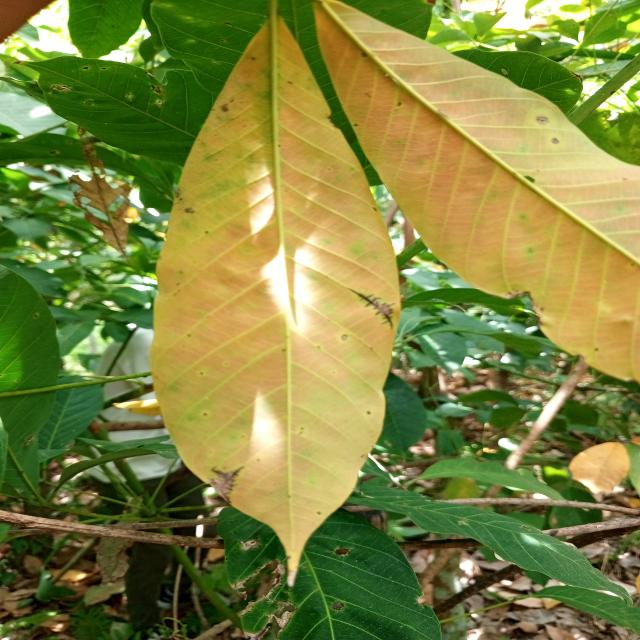Colletotrichum: (537, 116, 549, 125)
Corynespora: (349, 289, 396, 330), (208, 466, 244, 504)
Leaf-Blight: (245, 625, 270, 640), (492, 550, 516, 565), (273, 610, 291, 628), (240, 538, 262, 552), (272, 562, 286, 574), (560, 540, 577, 548)
